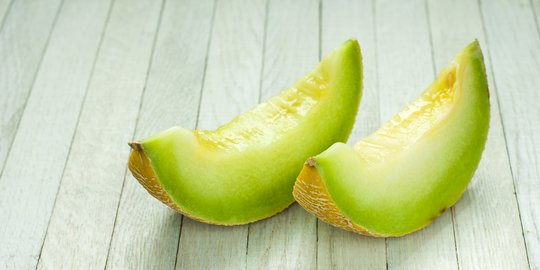Melon: (149, 54, 374, 224), (320, 48, 481, 266)
